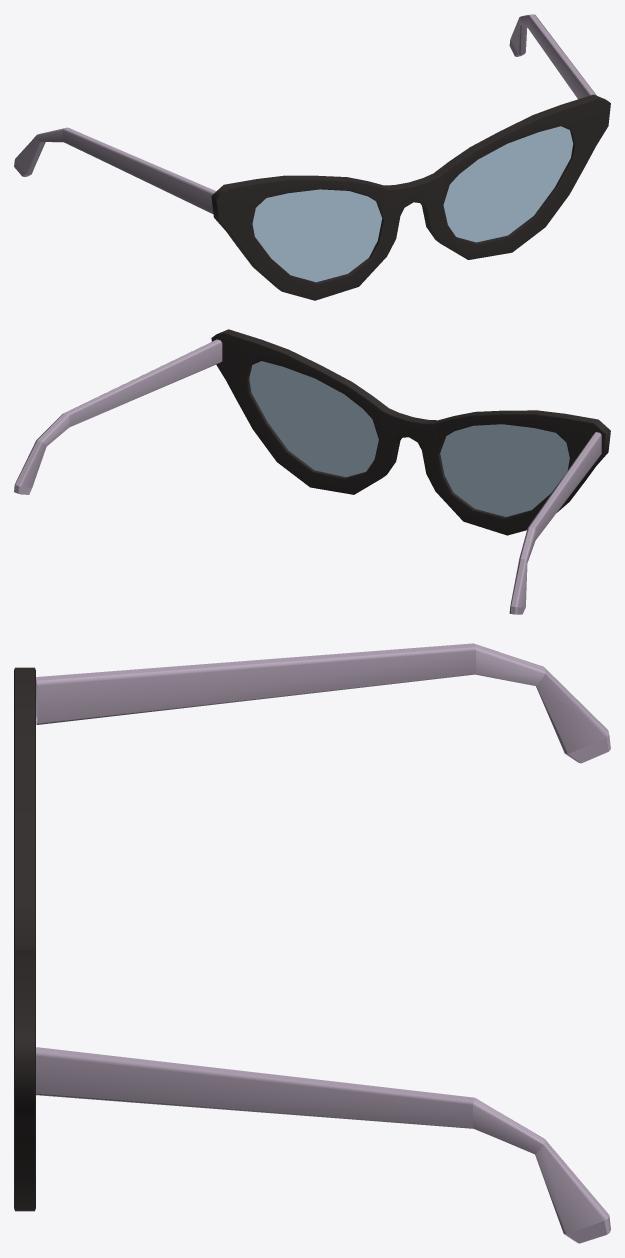
The model's file is Glasses_14_01.fbx.
3 views of the same model, one above another, from view 1: azimuth 30°, elevation 25°; view 2: azimuth 150°, elevation 25°; view 3: azimuth 270°, elevation 25° (orthographic). The views are drawn at different scales.
Parts seen in each view (by area): view 1: Glasses_14_01; view 2: Glasses_14_01; view 3: Glasses_14_01.
Boxes of the visible parts, box(x1,y1,x2,y2) form: Glasses_14_01: box(14, 14, 610, 300); Glasses_14_01: box(14, 329, 610, 614); Glasses_14_01: box(14, 643, 610, 1243).
Bounding box in the file's own units: 39.16 × 9.93 × 20.12.
